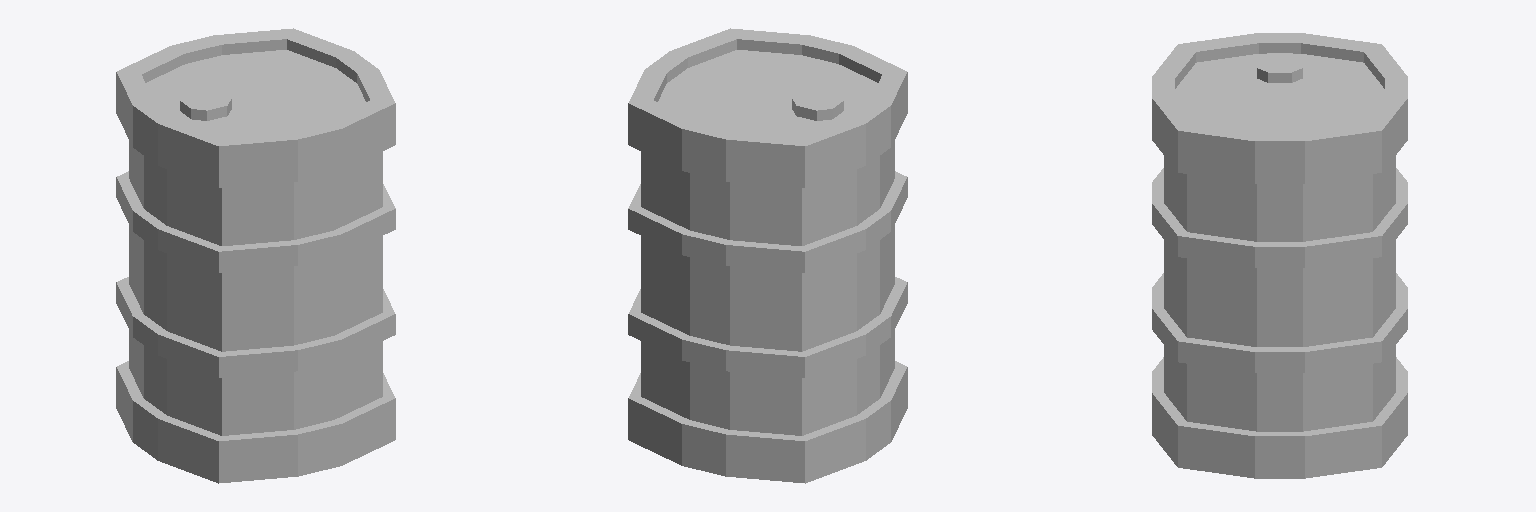
File: barrel.obj
3 views of the same model, side by side, from view 1: azimuth 30°, elevation 25°; view 2: azimuth 150°, elevation 25°; view 3: azimuth 270°, elevation 25° (orthographic).
Parts seen in each view (by area): view 1: barrel; view 2: barrel; view 3: barrel.
Boxes of the visible parts, box(x1,y1,x2,y2) form: barrel: box(116, 28, 395, 483); barrel: box(628, 28, 907, 483); barrel: box(1152, 33, 1407, 478).
Size of the model in its own units: 0.2365 by 0.344 by 0.2365.